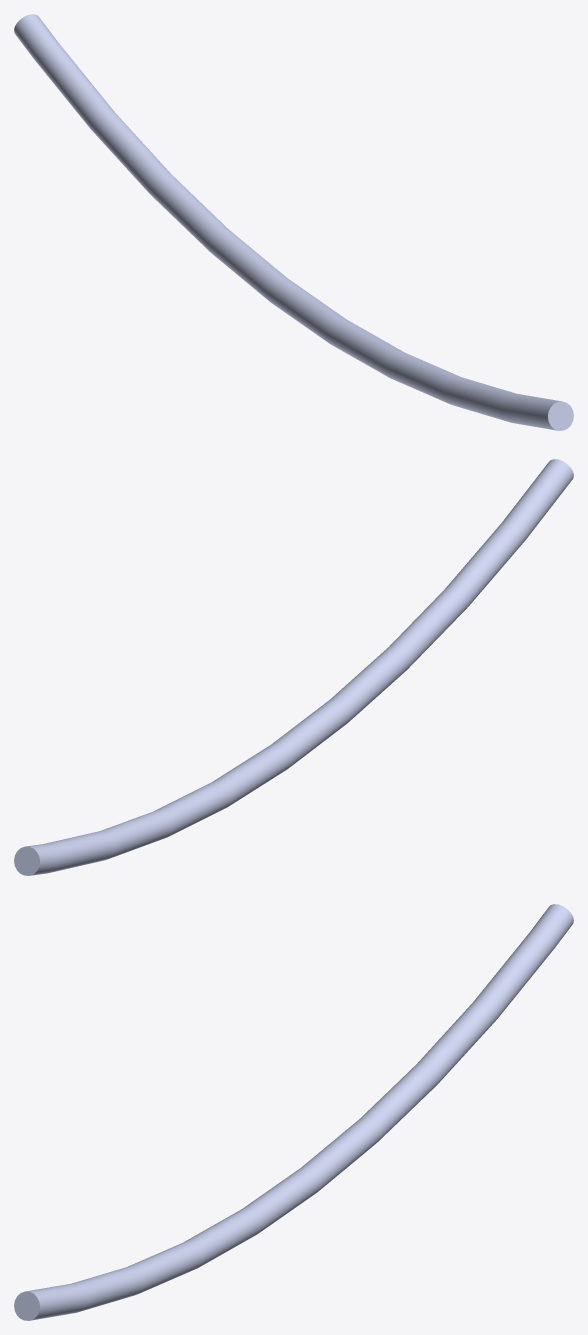
Rendered from ExpPtP.FBX.
The picture shows the model from 3 angles, top to bottom: view 1: azimuth 30°, elevation 25°; view 2: azimuth 150°, elevation 25°; view 3: azimuth 330°, elevation 25°; orthographic projection.
Visible parts, largest first — view 1: Barrer1; view 2: Barrer1; view 3: Barrer1.
Part boxes in pixels (box(x1,y1,x2,y2)): Barrer1: box(14, 14, 573, 430); Barrer1: box(14, 459, 573, 875); Barrer1: box(14, 904, 573, 1320).
Bounding box in the file's own units: 0.3877 × 1.56 × 14.3.
